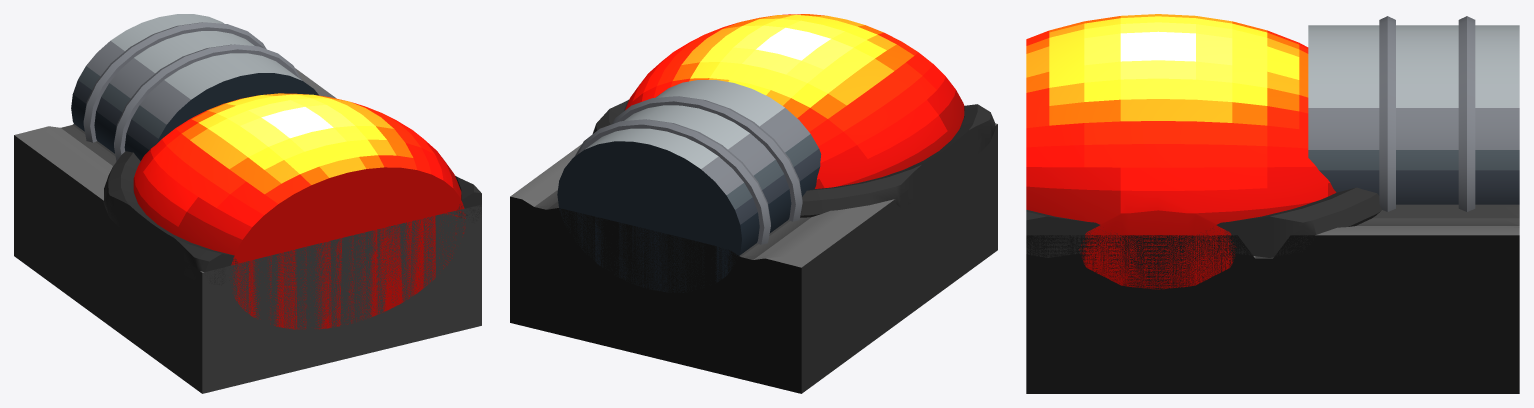
File: coral_citadel_9.glb
3 renders of one model, left to right at view 1: azimuth 30°, elevation 25°; view 2: azimuth 150°, elevation 25°; view 3: azimuth 270°, elevation 25°, orthographic. The views are drawn at different scales.
Visible parts, largest first — view 1: coral_citadel_9_citadel_relief, coral_citadel_9_core, coral_citadel_9_pipe, coral_citadel_9_core_ring, coral_citadel_9_pipe_band1, coral_citadel_9_pipe_band0; view 2: coral_citadel_9_citadel_relief, coral_citadel_9_pipe, coral_citadel_9_core, coral_citadel_9_core_ring, coral_citadel_9_pipe_band1, coral_citadel_9_pipe_band0; view 3: coral_citadel_9_citadel_relief, coral_citadel_9_core, coral_citadel_9_pipe, coral_citadel_9_core_ring, coral_citadel_9_pipe_band1, coral_citadel_9_pipe_band0.
Boxes of the visible parts, bbox=[...] form: coral_citadel_9_citadel_relief: bbox=[14, 68, 481, 393]; coral_citadel_9_core: bbox=[133, 93, 465, 329]; coral_citadel_9_pipe: bbox=[71, 14, 318, 160]; coral_citadel_9_core_ring: bbox=[103, 151, 481, 285]; coral_citadel_9_pipe_band1: bbox=[83, 22, 266, 142]; coral_citadel_9_pipe_band0: bbox=[114, 44, 302, 161]; coral_citadel_9_citadel_relief: bbox=[510, 123, 997, 393]; coral_citadel_9_pipe: bbox=[557, 80, 821, 292]; coral_citadel_9_core: bbox=[625, 14, 964, 188]; coral_citadel_9_core_ring: bbox=[592, 99, 995, 217]; coral_citadel_9_pipe_band1: bbox=[574, 119, 770, 244]; coral_citadel_9_pipe_band0: bbox=[612, 96, 802, 221]; coral_citadel_9_citadel_relief: bbox=[1026, 204, 1519, 393]; coral_citadel_9_core: bbox=[1026, 14, 1336, 289]; coral_citadel_9_pipe: bbox=[1308, 25, 1519, 204]; coral_citadel_9_core_ring: bbox=[1026, 187, 1381, 257]; coral_citadel_9_pipe_band1: bbox=[1458, 16, 1475, 211]; coral_citadel_9_pipe_band0: bbox=[1379, 16, 1395, 211].
Bounding box in the file's own units: 23.98 × 17.19 × 27.98.
